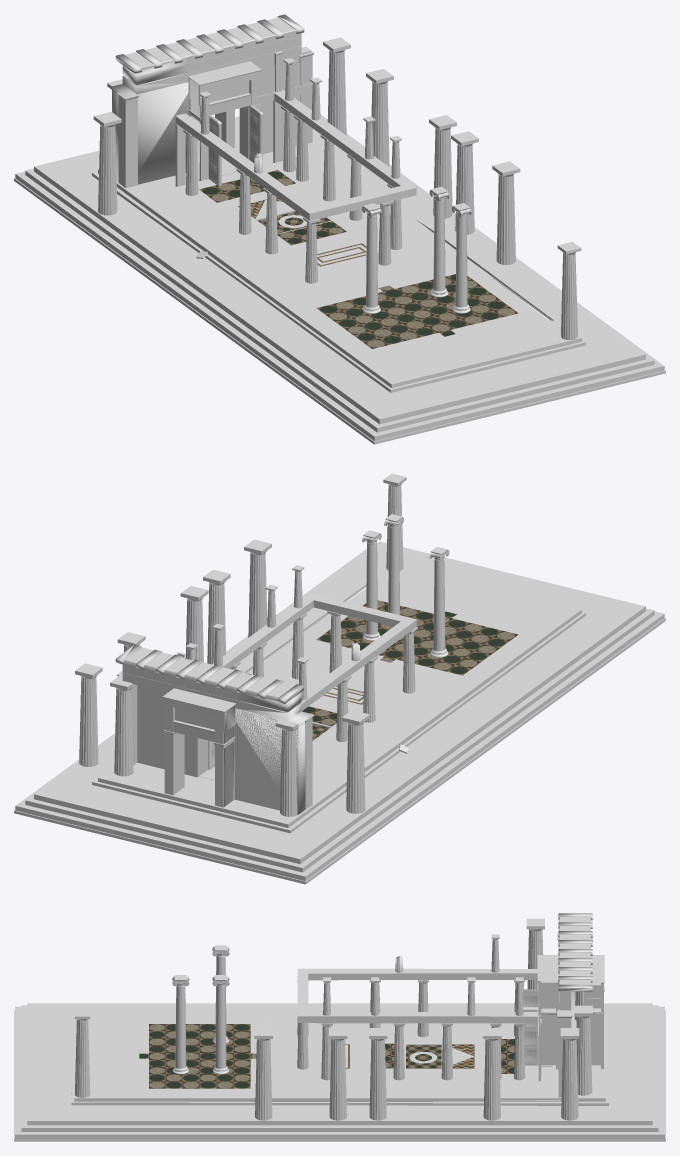
File: Temple.fbx
The picture shows the model from 3 angles, top to bottom: view 1: azimuth 30°, elevation 25°; view 2: azimuth 150°, elevation 25°; view 3: azimuth 270°, elevation 25°; orthographic projection. The views are drawn at different scales.
Parts seen in each view (by area): view 1: Parthenon; view 2: Parthenon; view 3: Parthenon.
Part boxes in pixels (x1=…): Parthenon: x1=14, y1=14, x2=665, y2=444; Parthenon: x1=14, y1=473, x2=665, y2=884; Parthenon: x1=14, y1=913, x2=665, y2=1141.
Size of the model in its own units: 3395 by 1556 by 7260.
